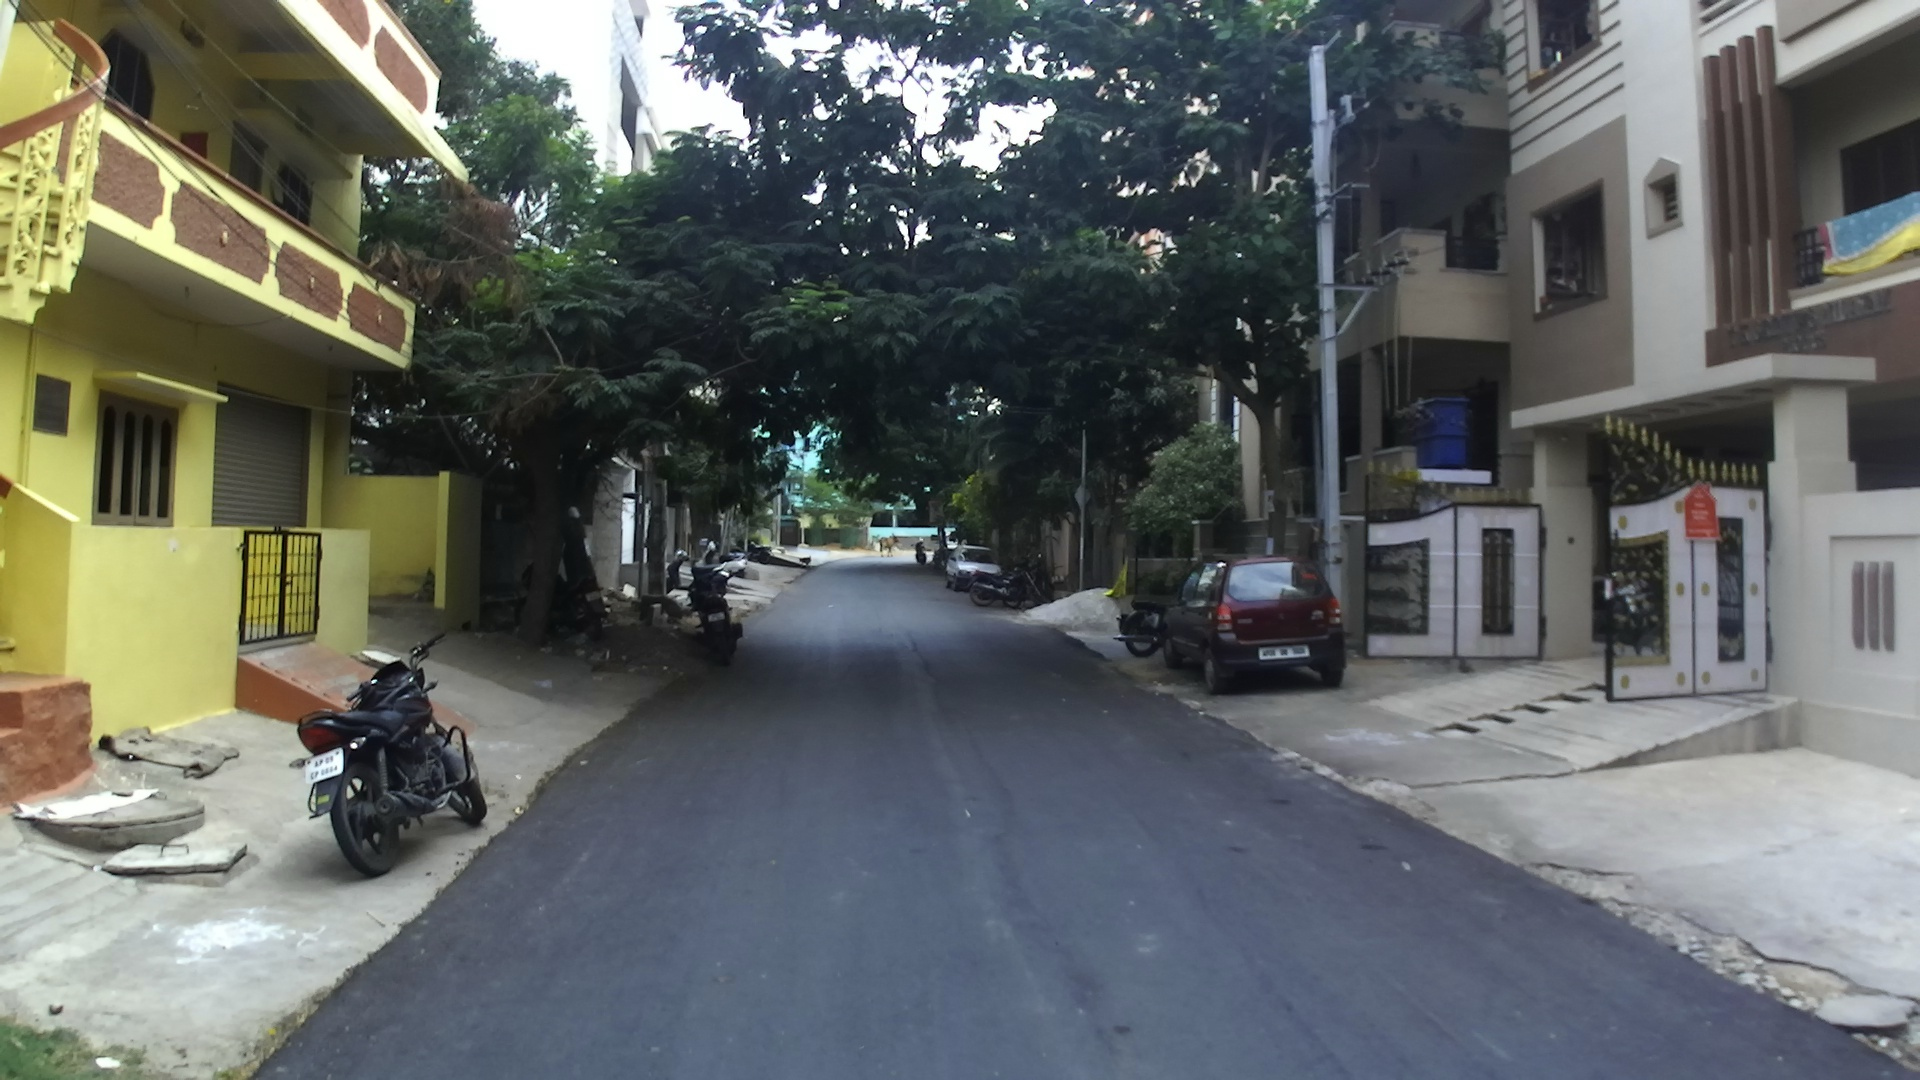vehicle: (295, 642, 487, 876), (1160, 553, 1348, 692), (1117, 559, 1189, 657), (948, 550, 1011, 597)
